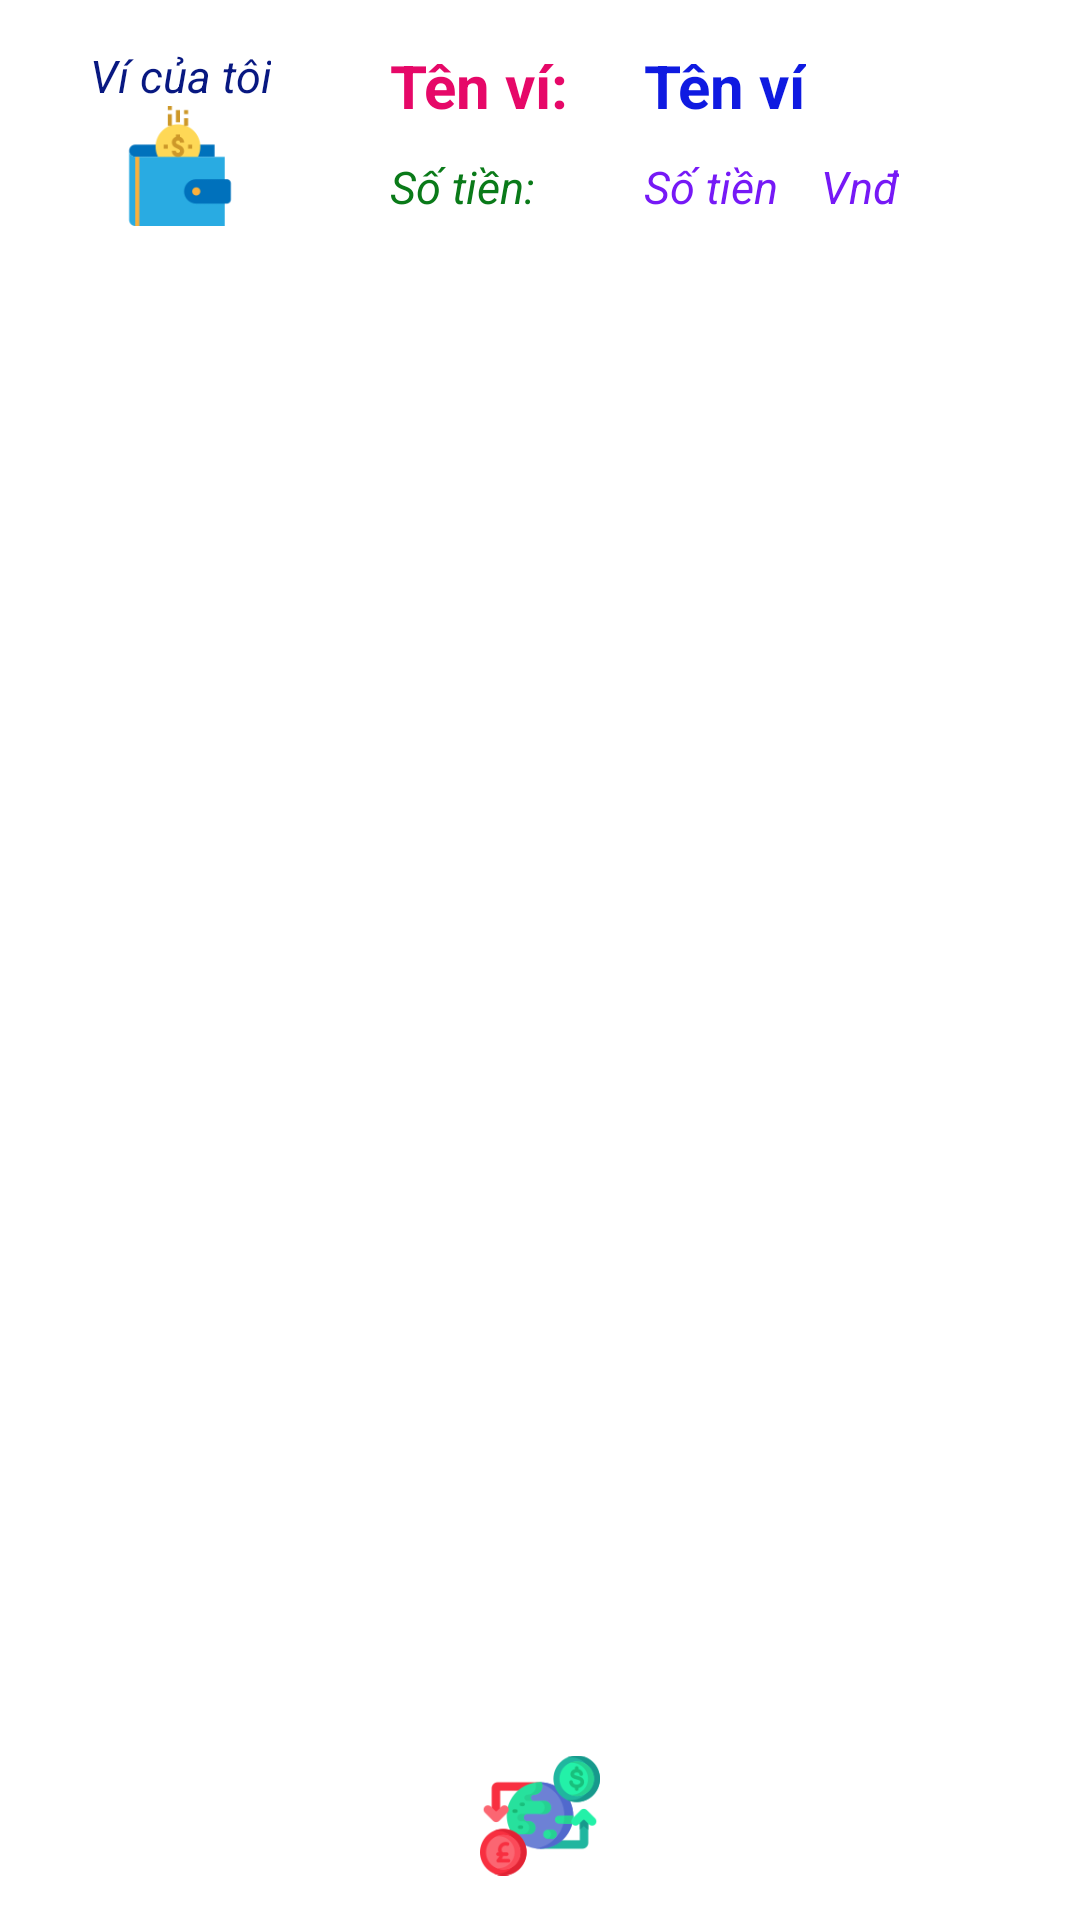

Point at icon controls on the screen. Image size 1080px×1920px, points as (x=x, y=y).
trade: (x=540, y=1816)
